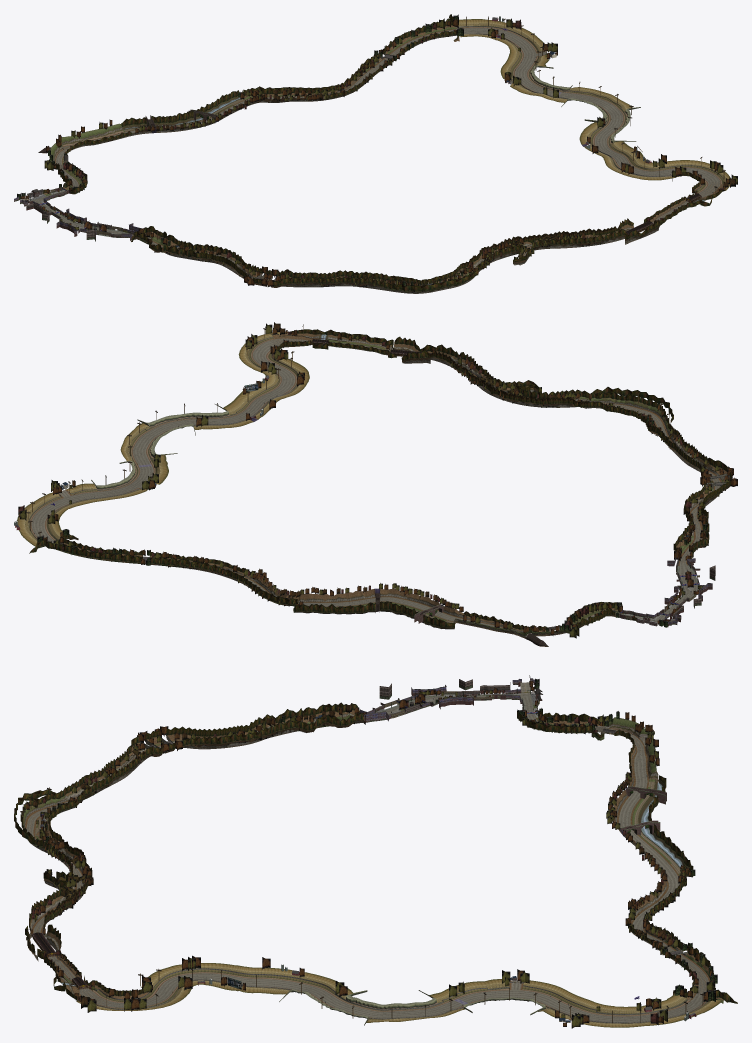
The model's file is hometown.glb.
3 renders of one model, top to bottom at view 1: azimuth 30°, elevation 25°; view 2: azimuth 150°, elevation 25°; view 3: azimuth 270°, elevation 25°, orthographic. The views are drawn at different scales.
Parts seen in each view (by area): view 1: mesh; view 2: mesh; view 3: mesh.
Part boxes in pixels (bbox=[...]): mesh: bbox=[14, 14, 737, 293]; mesh: bbox=[14, 322, 737, 646]; mesh: bbox=[14, 675, 737, 1028].
Size of what is drawn, in the model's own units: 1796 by 109 by 1561.
Materials: 1 (1 with a texture image).
